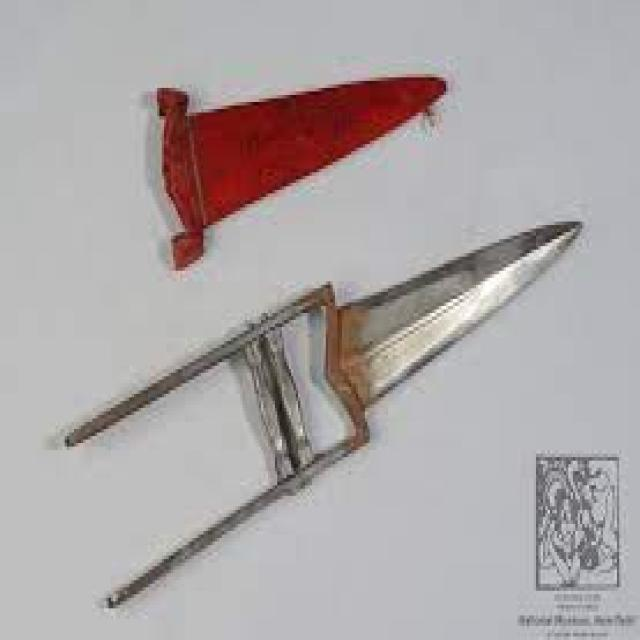Gun: (10, 208, 599, 533)
